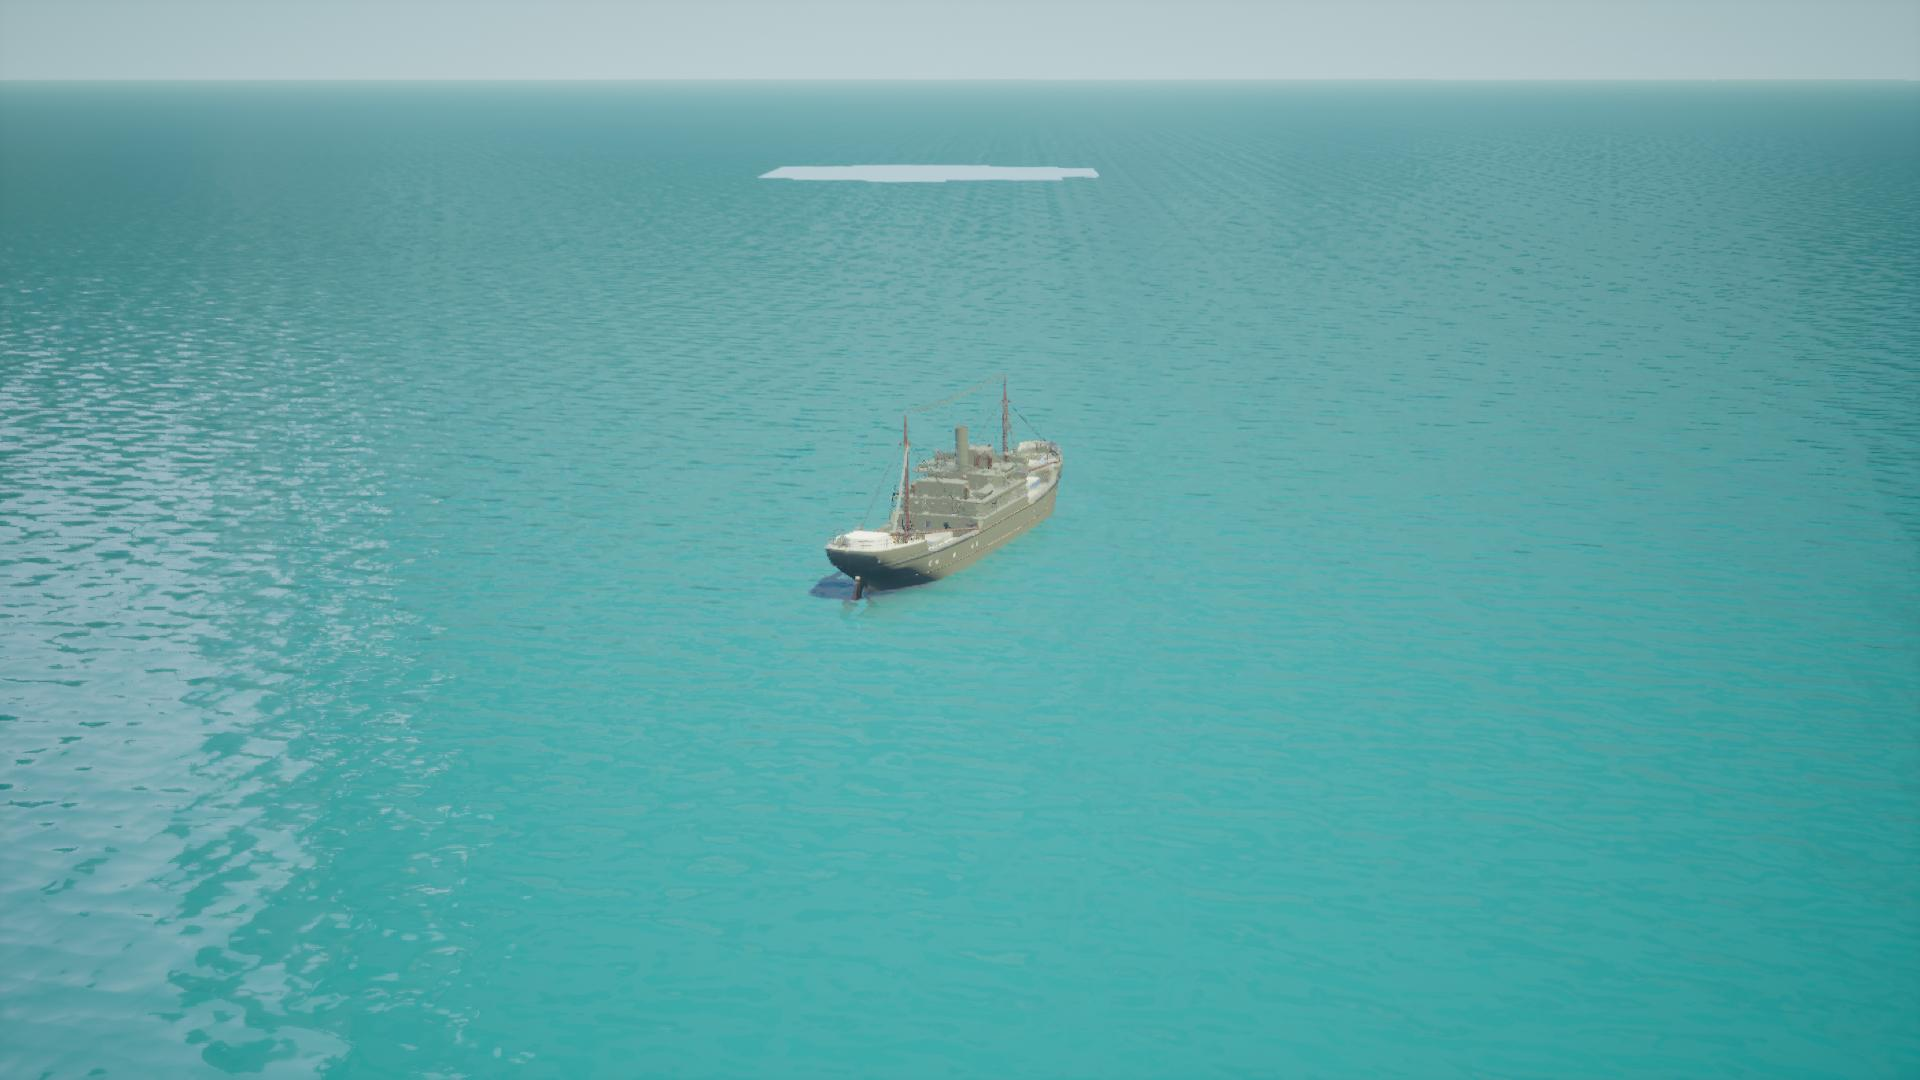Fishing Boat: (825, 378, 1060, 600)
